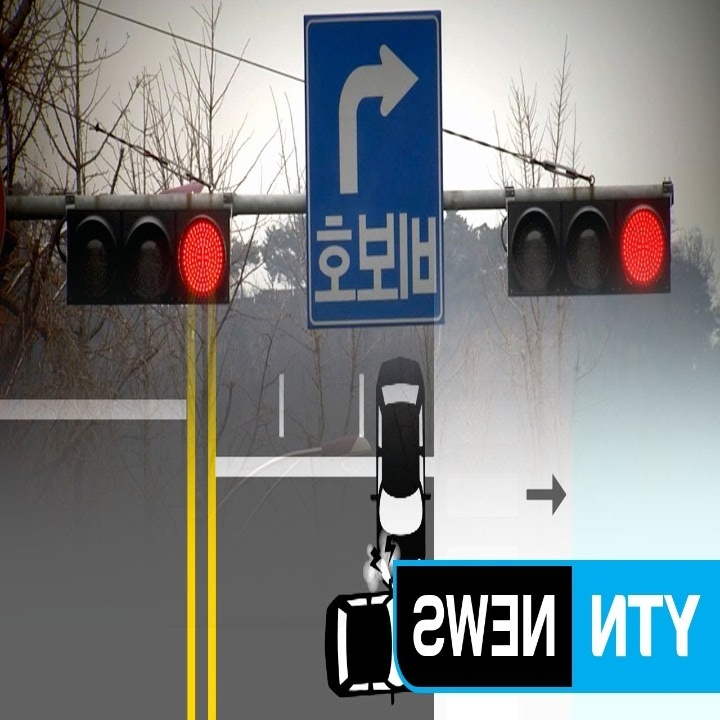right: (334, 33, 427, 196)
